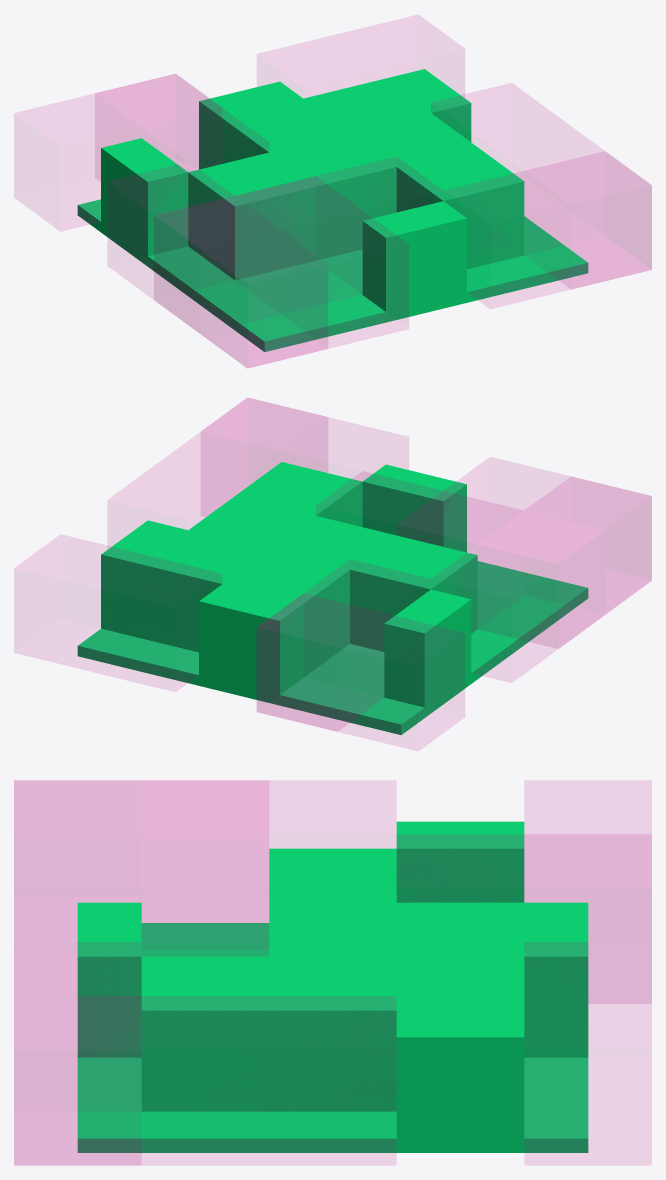
File: tileset_template.fbx_TileMapShape.fbx
The picture shows the model from 3 angles, top to bottom: view 1: azimuth 30°, elevation 25°; view 2: azimuth 150°, elevation 25°; view 3: azimuth 270°, elevation 25°; orthographic projection. The views are drawn at different scales.
Parts seen in each view (by area): view 1: BaseShape, Cube.006, Cube.007, Cube.005, Cube.002, Cube.003, Cube.004, Cube; view 2: BaseShape, Cube.006, Cube.007, Cube.005, Cube.004, Cube.003, Cube.002, Cube.008, Cube; view 3: BaseShape, Cube.006, Cube.005, Cube.002, Cube.007, Cube.004, Cube.008.
Part boxes in pixels (x1,y1,x2,y2): BaseShape: [77, 69, 588, 352]; Cube.006: [257, 15, 464, 97]; Cube.007: [14, 94, 100, 230]; Cube.005: [431, 83, 603, 172]; Cube.002: [108, 162, 233, 298]; Cube.003: [329, 211, 408, 347]; Cube.004: [444, 171, 569, 308]; Cube: [317, 157, 442, 212]; BaseShape: [77, 462, 588, 735]; Cube.006: [14, 535, 221, 691]; Cube.007: [338, 614, 464, 750]; Cube.005: [108, 432, 204, 545]; Cube.004: [328, 418, 408, 477]; Cube.003: [445, 457, 569, 509]; Cube.002: [431, 545, 556, 682]; Cube.008: [305, 560, 430, 595]; Cube: [316, 472, 441, 514]; BaseShape: [77, 821, 588, 1152]; Cube.006: [525, 942, 651, 1164]; Cube.005: [141, 996, 395, 1164]; Cube.002: [270, 781, 395, 847]; Cube.007: [525, 781, 651, 833]; Cube.004: [14, 942, 140, 995]; Cube.008: [397, 835, 523, 900].
Bounding box in the file's own units: 1000 × 225 × 1000.
